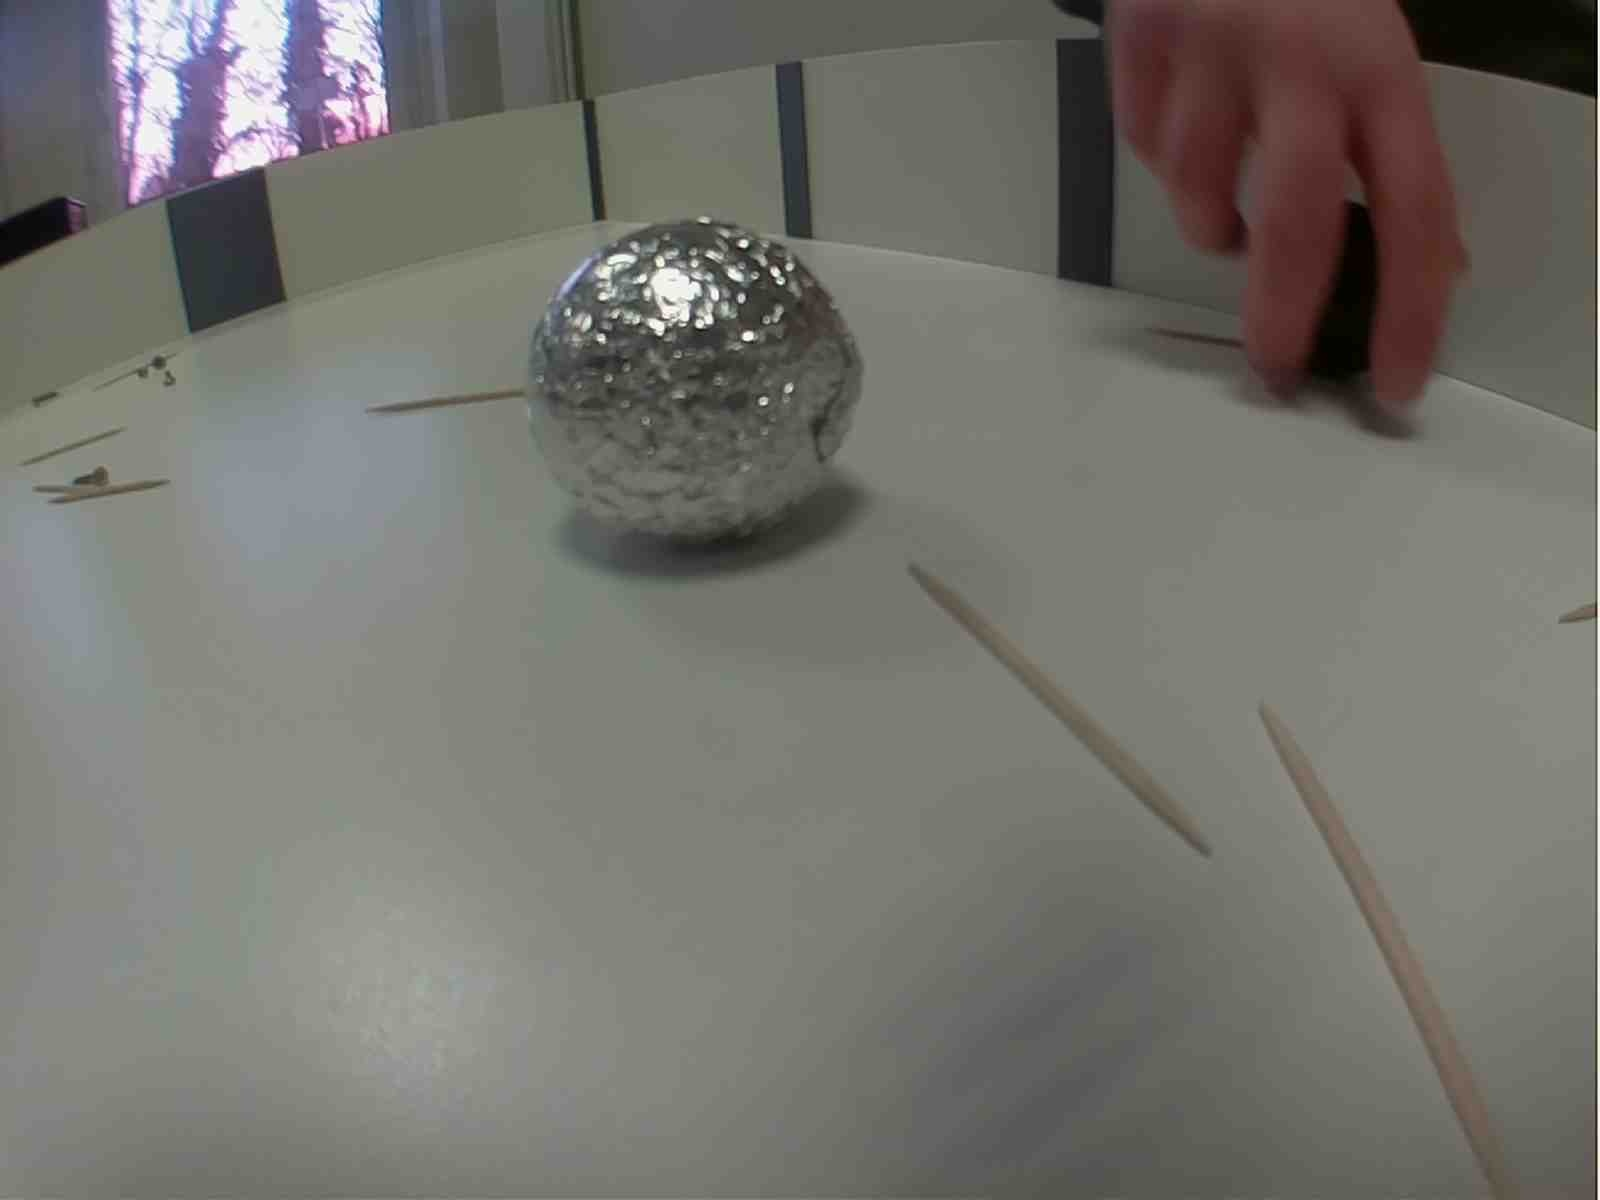bianca: (518, 211, 873, 555)
nera: (1246, 198, 1453, 405)
